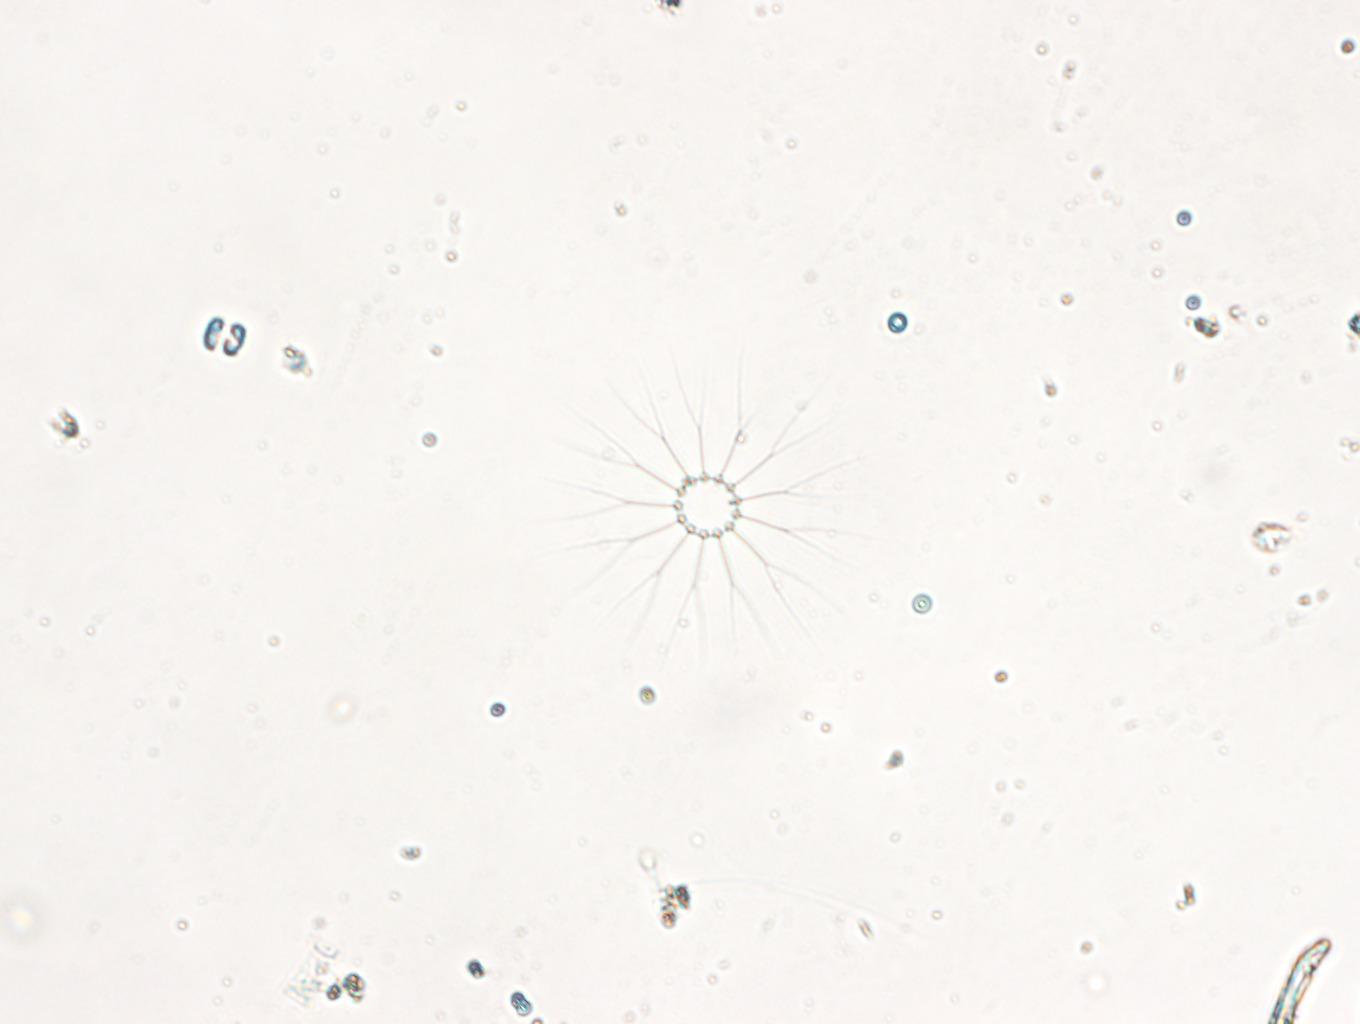bacteriastrum: (559, 359, 856, 659)
